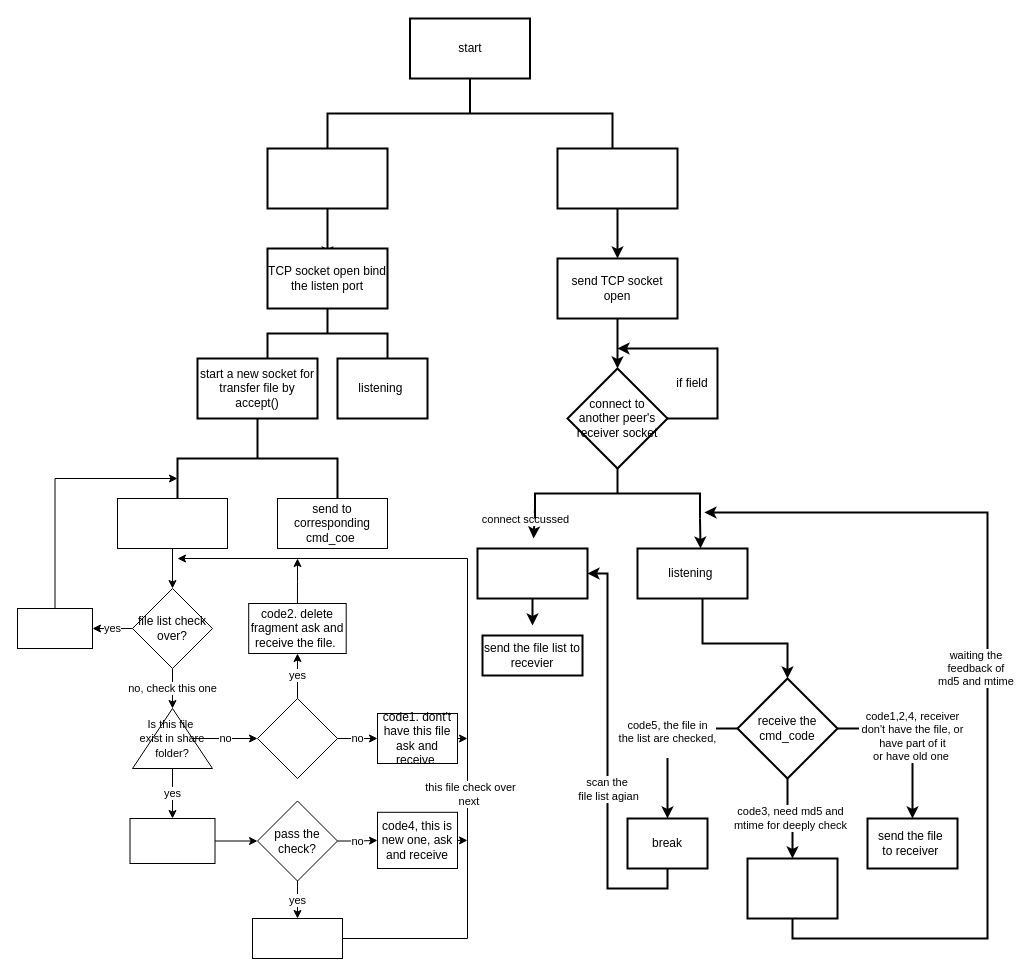
Image size: 1034x976. Some labels were removed from this diagram. The centre of each missing label's shape, as x and y in pixels:
"code3, ask the MD5 and mtime" goes at point (172, 841).
"code5, ask new file list" goes at point (54, 628).
"Do we have part of it?" goes at point (297, 738).
"get the md5 and mtime then send to receiver" goes at point (792, 888).
"receive the file list" goes at point (172, 523).
"same file, do nothing" goes at point (297, 938).
"scan the share folder" goes at point (532, 573).
"start receiver thread" goes at point (327, 178).
"start sender thread" goes at point (617, 178).
